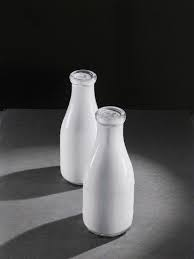milk: (80, 107, 134, 240), (49, 61, 103, 182)
